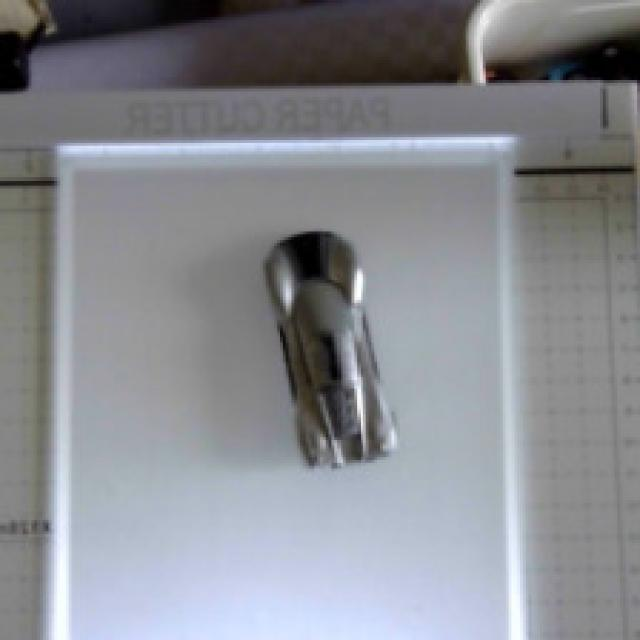Grey Car: (214, 200, 460, 493)
